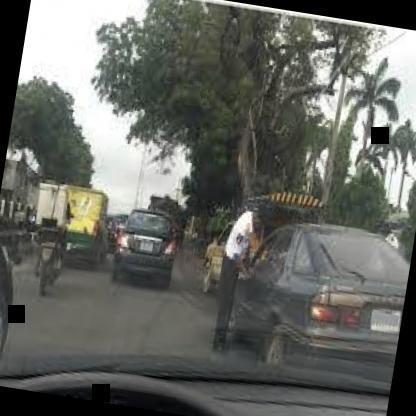car: (201, 188, 416, 395), (18, 162, 114, 304), (96, 198, 193, 311)
